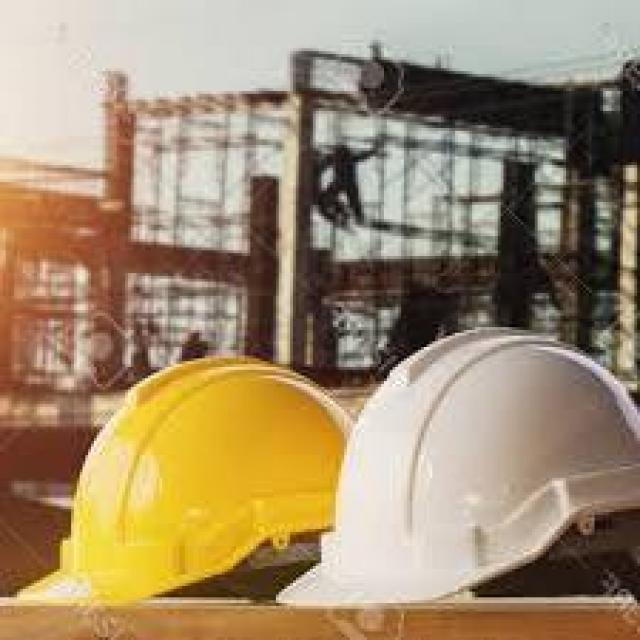Safety-Helmet: (273, 322, 640, 632), (11, 341, 372, 640)
